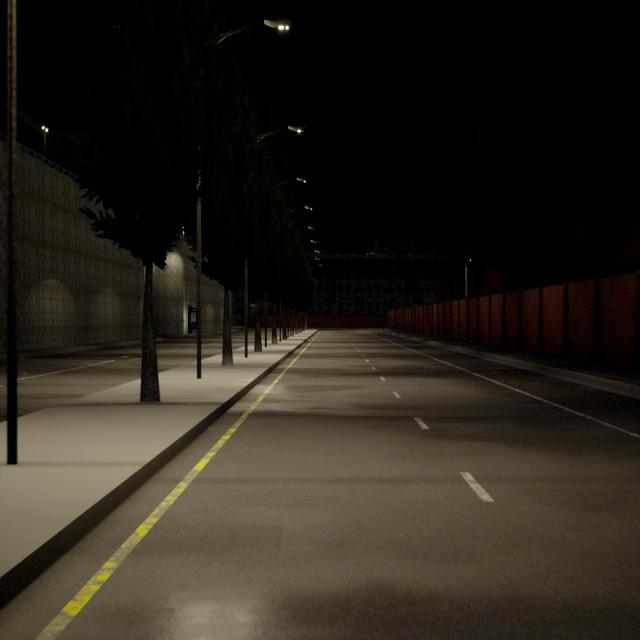Pedestrian: (424, 311, 430, 340)
